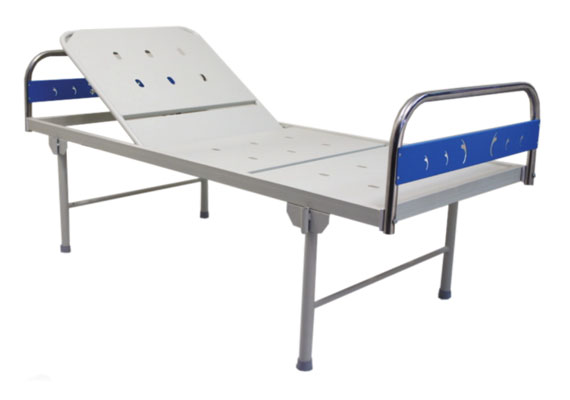trolley_bed: (20, 23, 544, 376)
